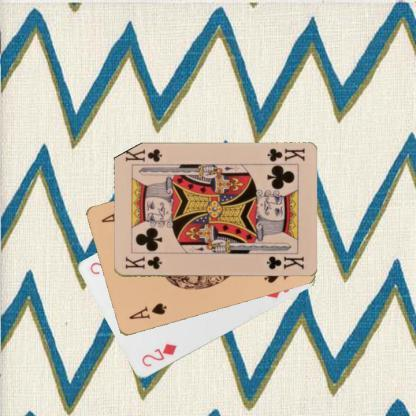2d: (139, 341, 178, 368)
As: (126, 300, 168, 322)
Kc: (264, 146, 306, 163), (122, 254, 163, 270)
